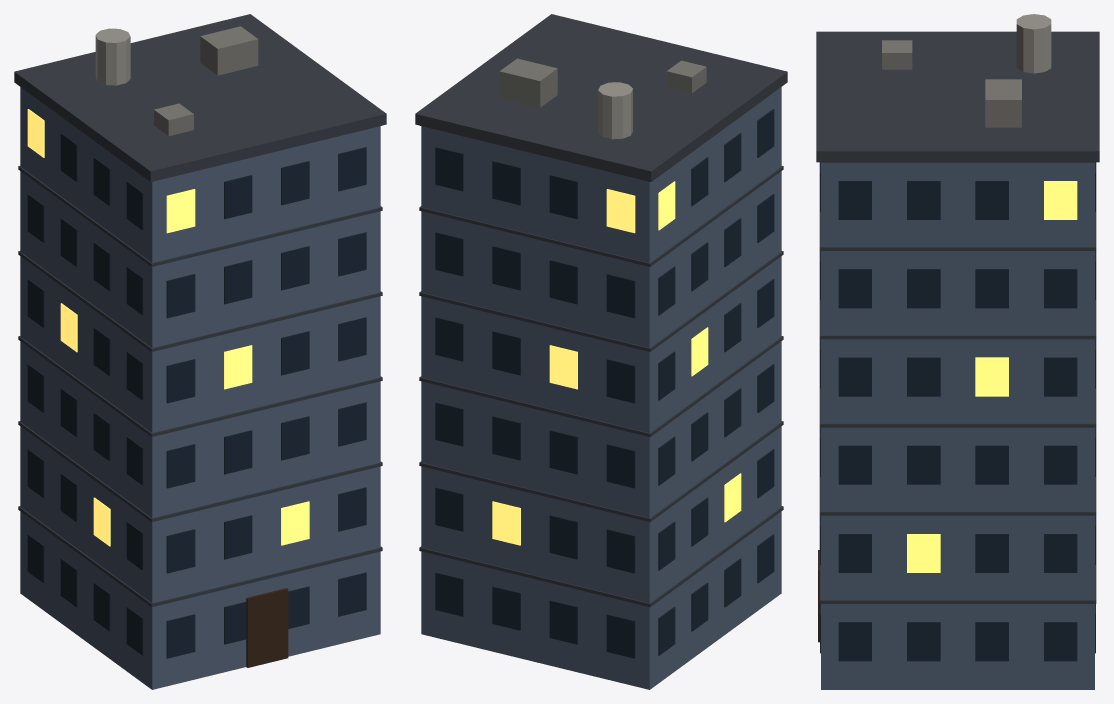
Rendered from building_1.glb.
The picture shows the model from 3 angles, left to right: view 1: azimuth 30°, elevation 25°; view 2: azimuth 150°, elevation 25°; view 3: azimuth 270°, elevation 25°; orthographic projection. The views are drawn at different scales.
Visible parts, largest first — view 1: building_1; view 2: building_1; view 3: building_1.
Part boxes in pixels (left/top/right/bottom): building_1: left=14, top=14, right=386, bottom=689; building_1: left=415, top=14, right=787, bottom=689; building_1: left=816, top=14, right=1099, bottom=689.
Size of the model in its own units: 9.3 by 21.2 by 9.3.
